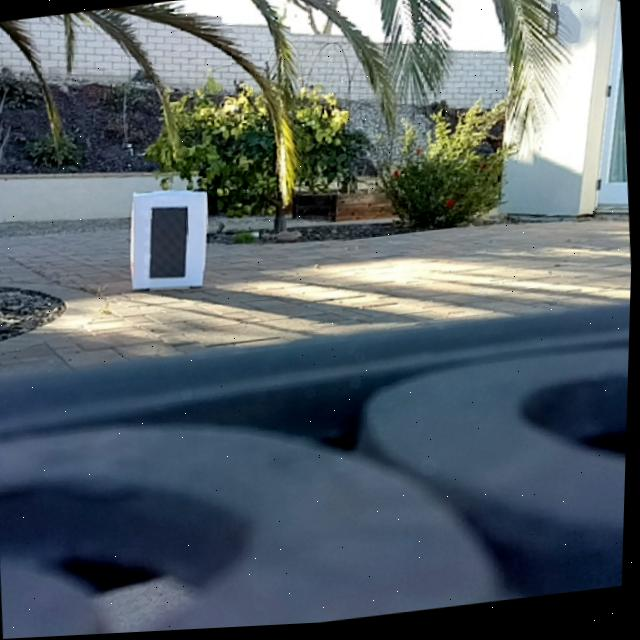led: (144, 201, 195, 285)
